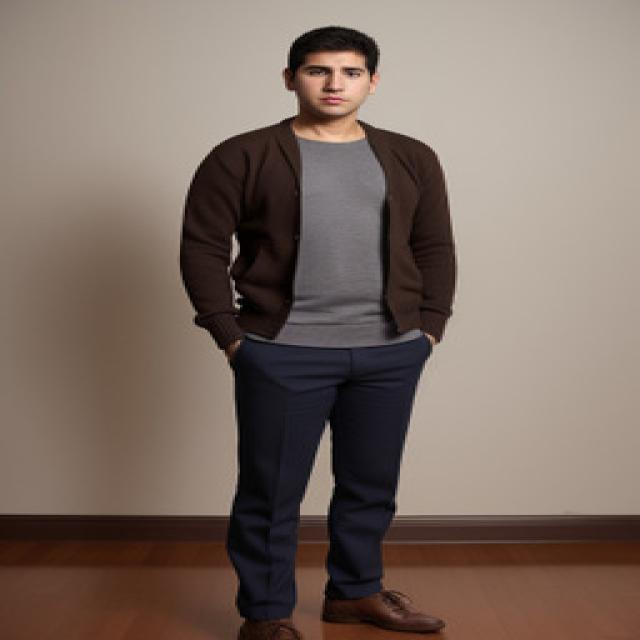Ai human 2: (168, 21, 503, 640)
